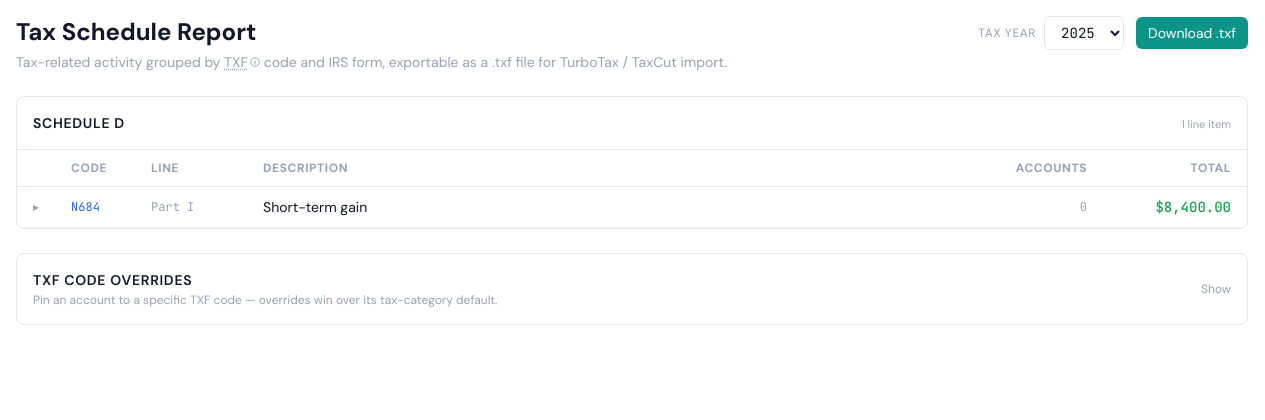
Test case: Tax Schedule page › shows a download error when the TXF request fails
Expected: the text "Short-term gain" is shown, [247,186,991,228]
Click the button "Download .txf".
click(1192, 33)  # box [1136,17,1248,49]
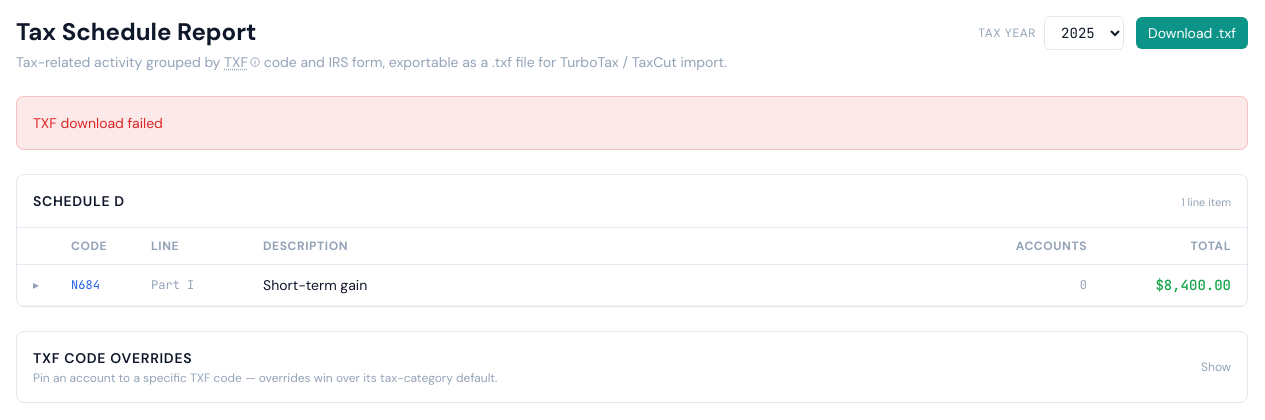
Now the text "TXF download failed" is shown, box [16,96,1248,150]
